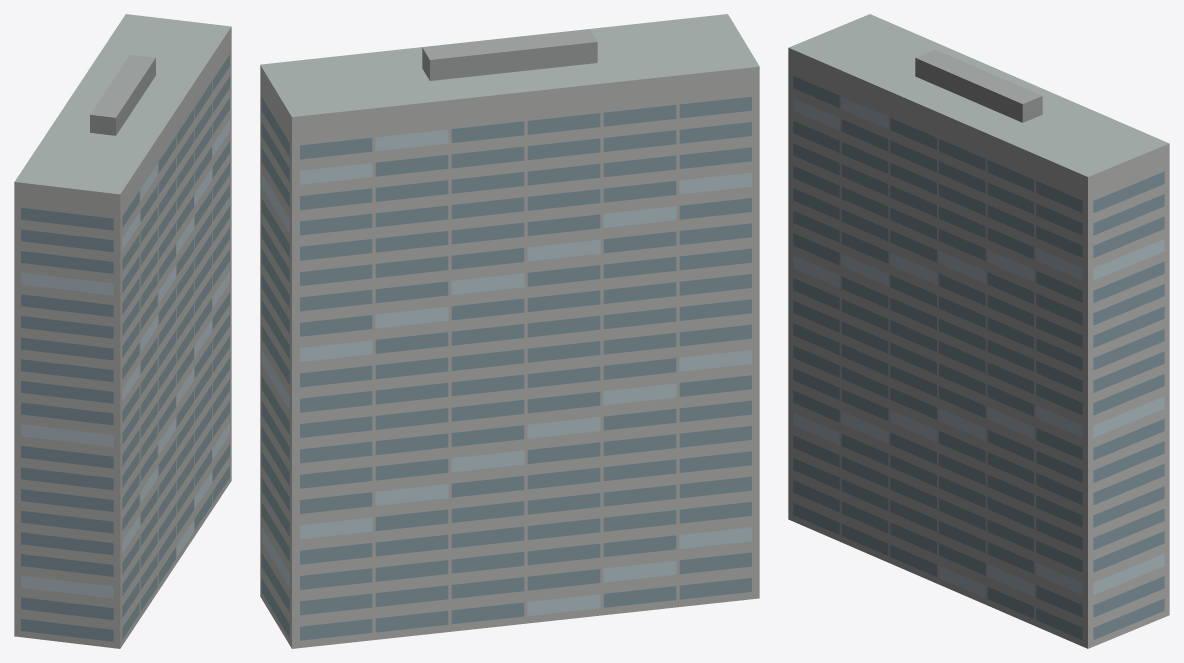
File: fallback-raemian-blesstige-222.glb
3 views of the same model, side by side, from view 1: azimuth 30°, elevation 25°; view 2: azimuth 150°, elevation 25°; view 3: azimuth 270°, elevation 25° (orthographic). The views are drawn at different scales.
Visible parts, largest first — view 1: fallback-raemian-blesstige-222; view 2: fallback-raemian-blesstige-222; view 3: fallback-raemian-blesstige-222.
Boxes of the visible parts, x1=… form: fallback-raemian-blesstige-222: x1=14, y1=14, x2=231, y2=648; fallback-raemian-blesstige-222: x1=260, y1=14, x2=759, y2=648; fallback-raemian-blesstige-222: x1=788, y1=14, x2=1169, y2=648.
Bounding box in the file's own units: 44.93 × 63 × 44.35.
